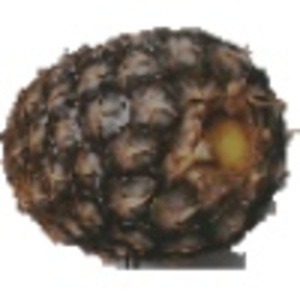abacaxi: (5, 18, 291, 261)
